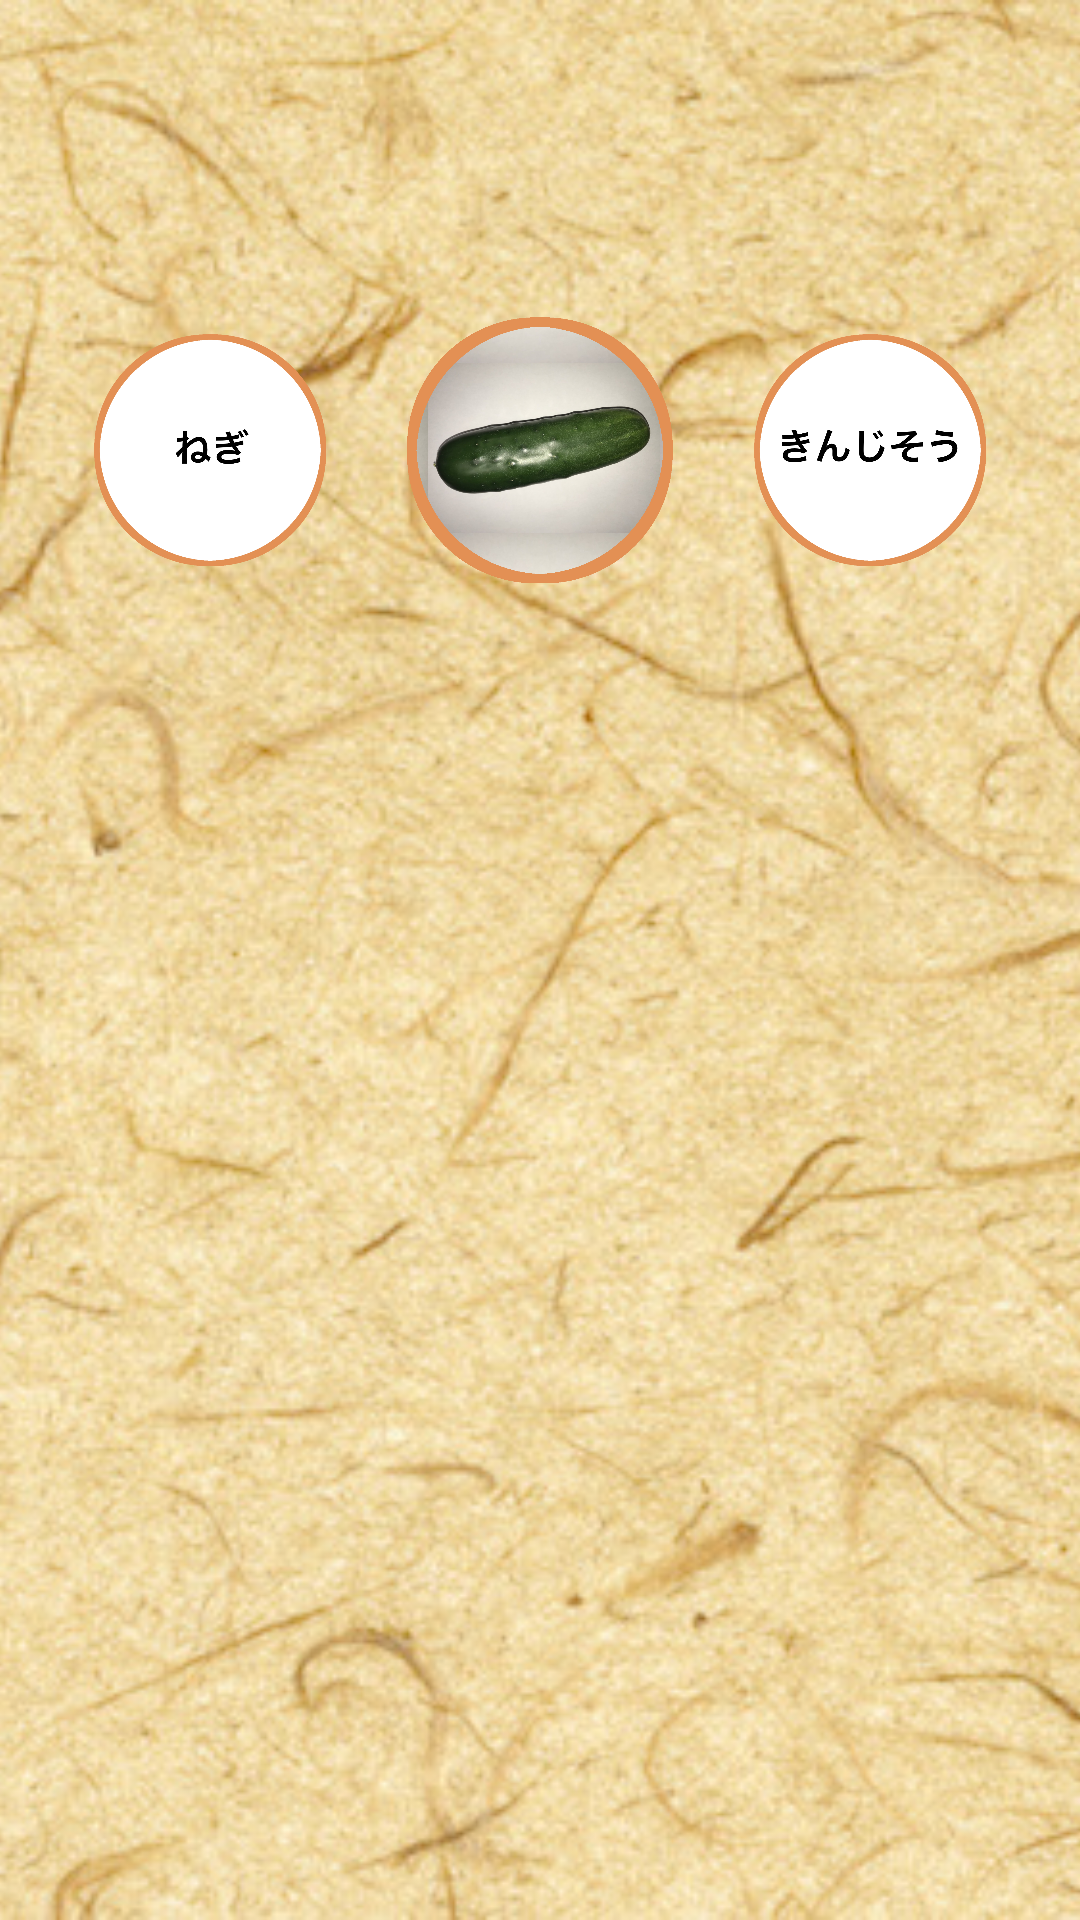

Locate icon controls on the screen. Image size 1080x1920, boxes as (x1, y1, x2, y2).
kyuri: (405, 315, 675, 585)
